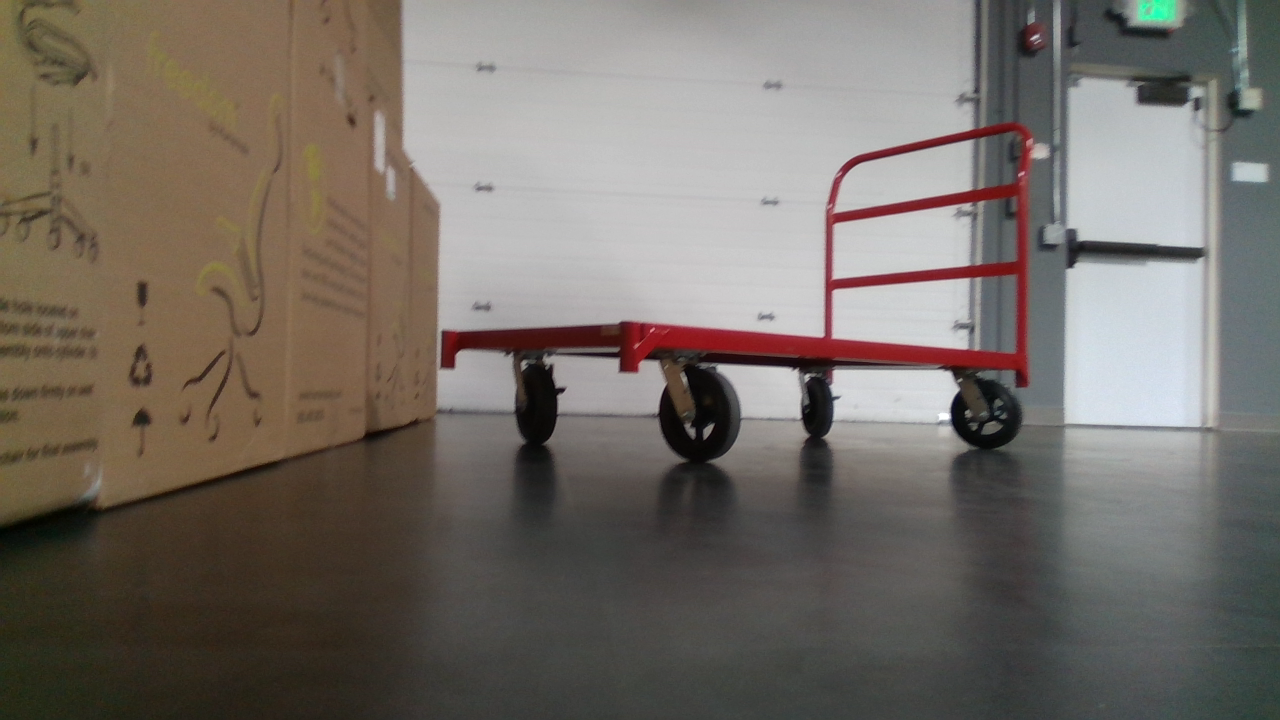Dolly: (436, 123, 1048, 460)
Wheel: (660, 364, 744, 461), (943, 364, 1024, 448), (510, 354, 569, 444), (794, 368, 841, 439)
